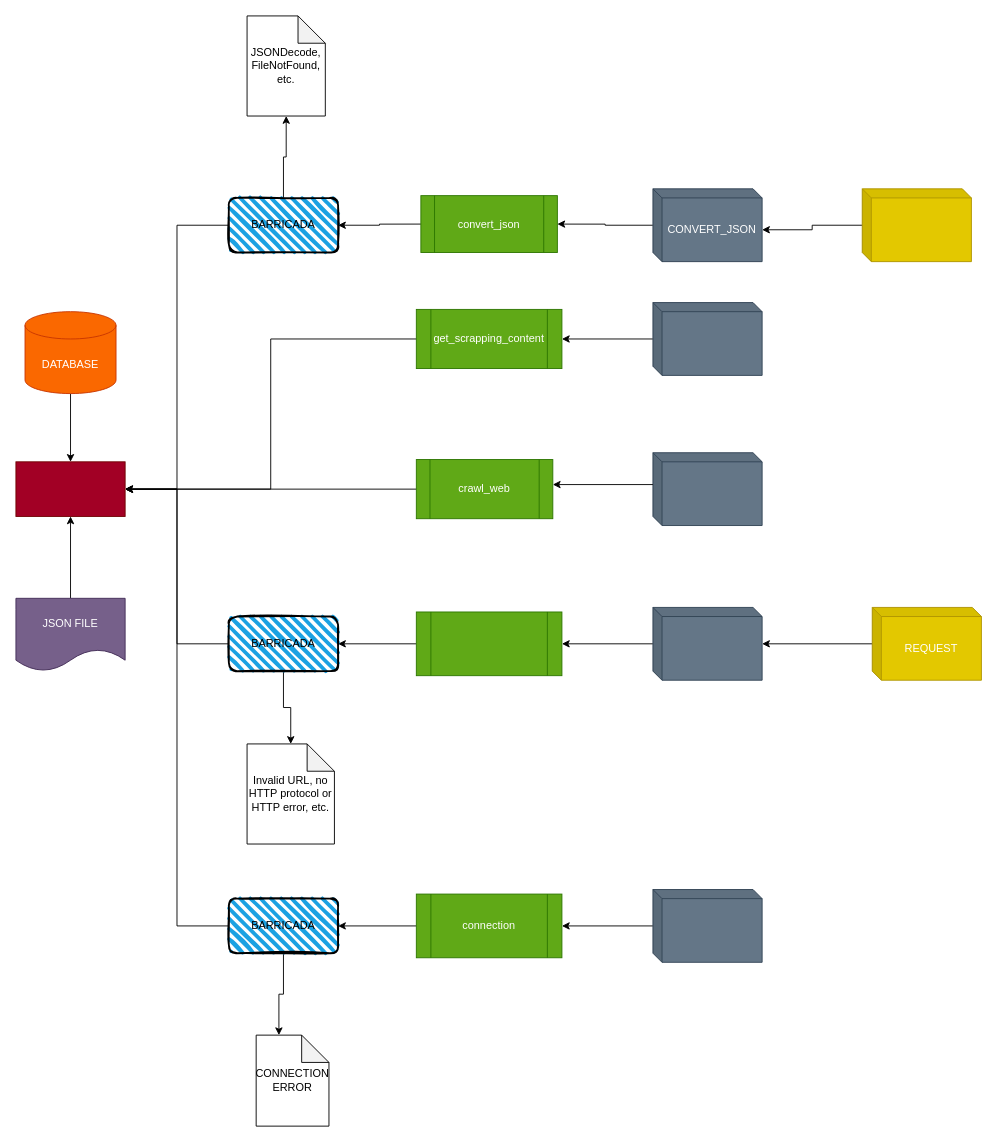
Some shapes in this 997 by 1142 pixel diagram are drawn without their labels. The box of each missing label's shape, as (x1, y1, x2, y2) in pixels:
CONTENT_PAGE: (652, 607, 762, 680)
CRAWLER: (652, 452, 762, 526)
DB_CONECTION: (652, 889, 762, 962)
get_html_content: (415, 611, 562, 676)
JSON: (861, 188, 971, 262)
MAIN: (15, 461, 125, 516)
SCRAPPING: (652, 302, 762, 375)
